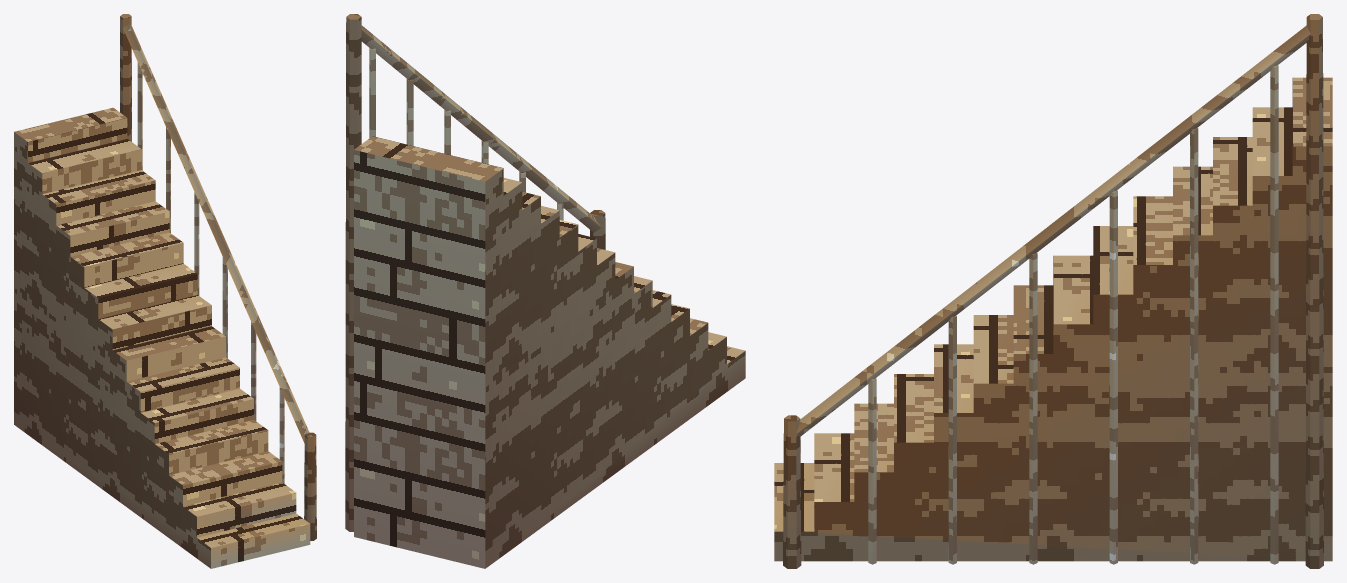
Rendered from wtown.stairs.glb.
3 views of the same model, side by side, from view 1: azimuth 30°, elevation 25°; view 2: azimuth 150°, elevation 25°; view 3: azimuth 270°, elevation 25° (orthographic). The views are drawn at different scales.
Visible parts, largest first — view 1: kit_treads, kit_rail, kit_spindles, kit_rail_posts; view 2: kit_treads, kit_rail_posts, kit_rail, kit_spindles; view 3: kit_treads, kit_spindles, kit_rail_posts, kit_rail.
Part boxes in pixels (left/top/right/bottom): kit_treads: left=14, top=107, right=310, bottom=568; kit_rail: left=122, top=24, right=309, bottom=445; kit_spindles: left=137, top=62, right=284, bottom=483; kit_rail_posts: left=120, top=14, right=316, bottom=540; kit_treads: left=354, top=136, right=745, bottom=568; kit_rail_posts: left=345, top=14, right=605, bottom=531; kit_rail: left=360, top=25, right=602, bottom=232; kit_spindles: left=369, top=48, right=563, bottom=220; kit_treads: left=774, top=77, right=1332, bottom=561; kit_spindles: left=868, top=65, right=1278, bottom=564; kit_rail_posts: left=783, top=14, right=1323, bottom=568; kit_rail: left=793, top=25, right=1314, bottom=436.
Size of the model in its own units: 1.22 by 4.1 by 3.78.
Materials: 4 (4 with a texture image).
